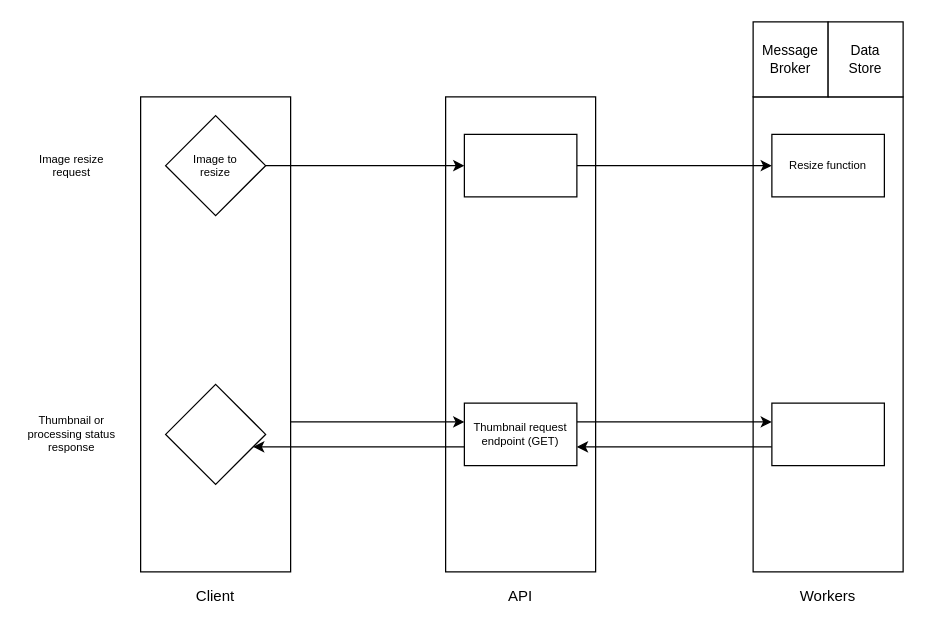
The diagram is 925 pixels wide and 631 high, and some of its shapes have lost their labels. The box of each missing label's shape, as (x1, y1, x2, y2) in pixels:
Resize request endpoint (POST): (463, 133, 577, 197)
Resize status: (771, 402, 884, 466)
Resized thumbnail: (164, 383, 266, 484)
